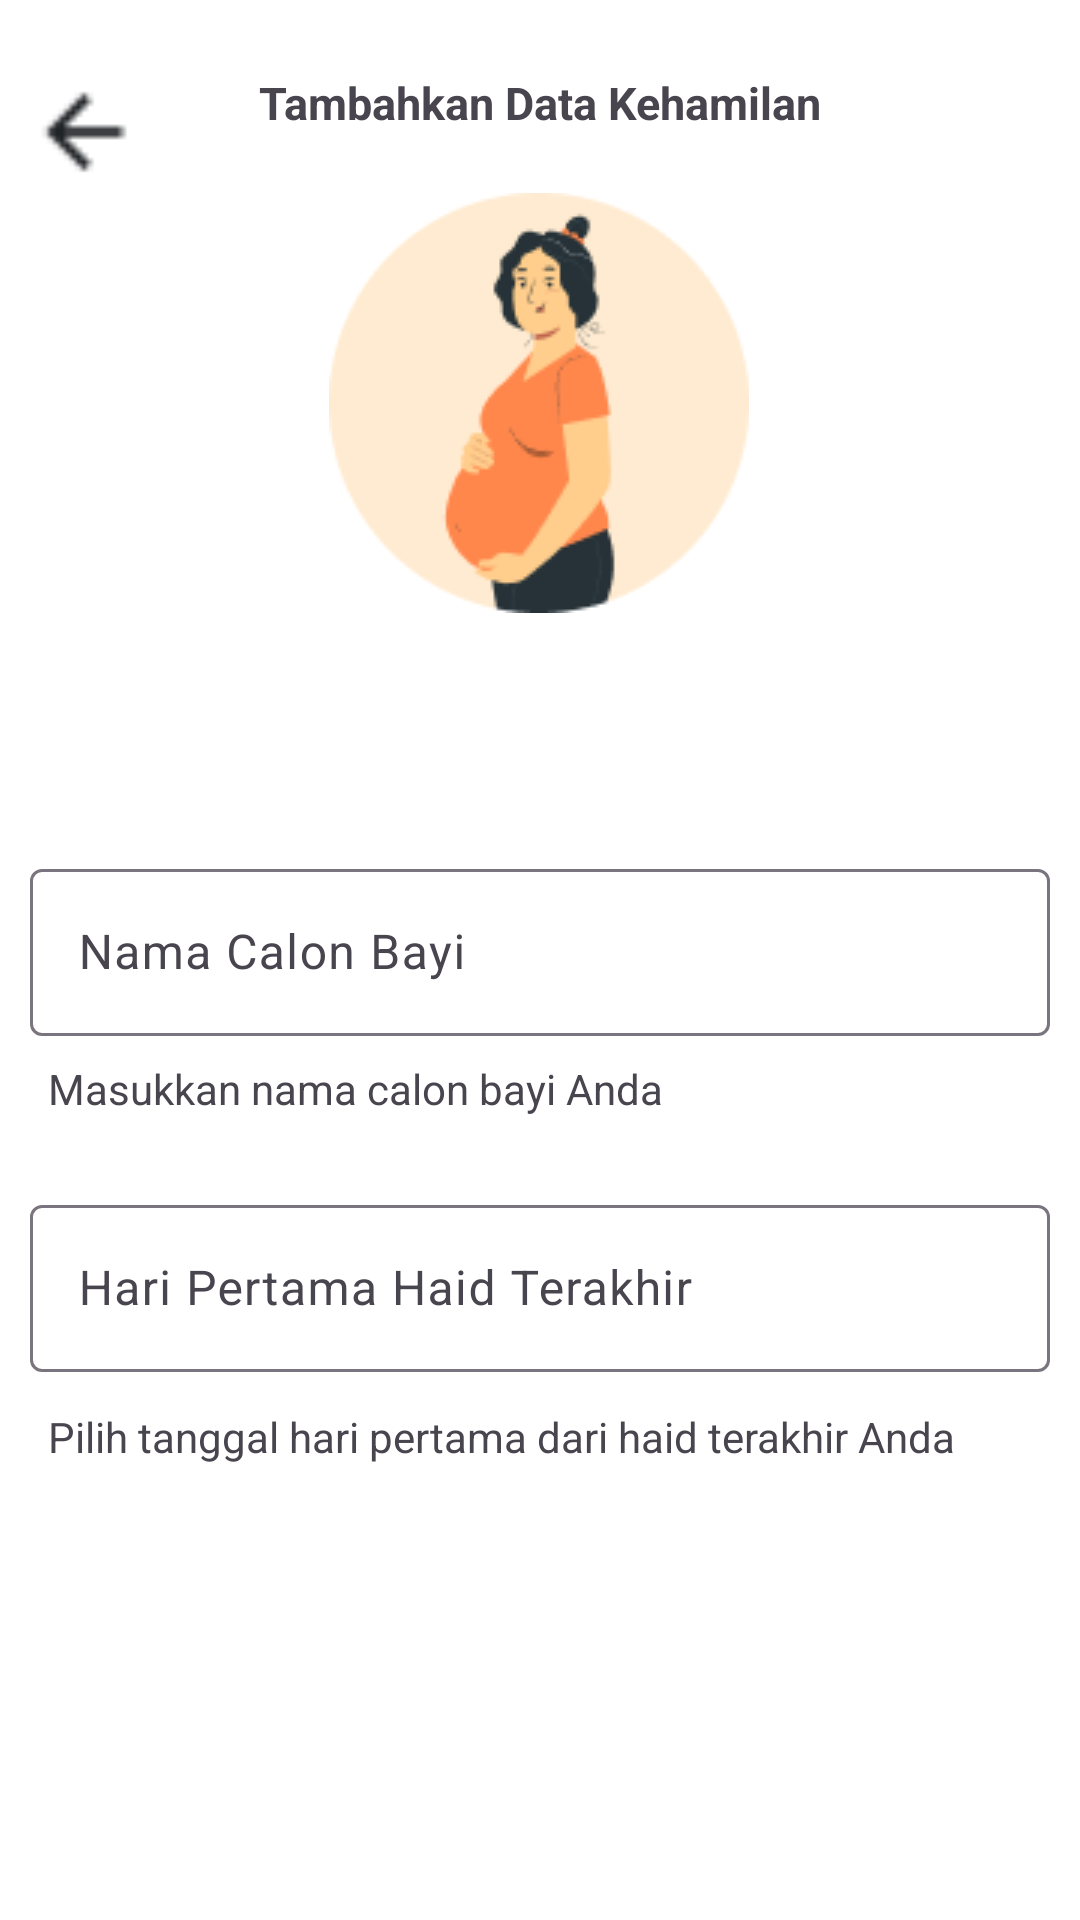

Icon bounding boxes for this 1080x1920 phone screenshot, format (x1, y1, x2, y2):
arrow back: (45, 92, 126, 172)
